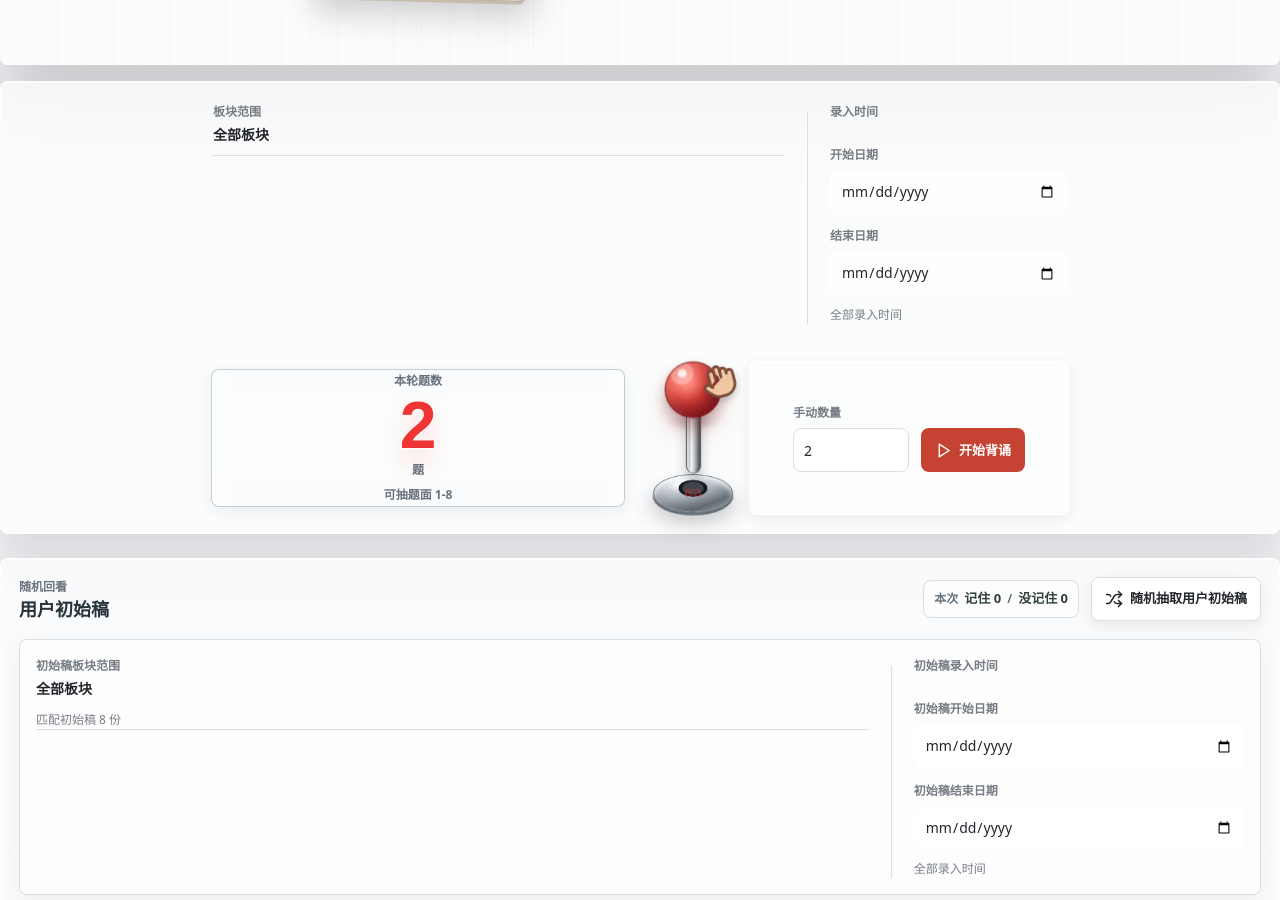
Test case: 不会标注背诵页 › 先显示封面和精简抽题入口，手动开始后才显示题目
(page scrolled)
Expected: the text "广陵对应哪里？" is not shown
Expected: the number field labelled "手动数量" is shown, x1=793 y1=428 x2=909 y2=472
Click the button "开始背诵" at (973, 450), box x1=921 y1=428 x2=1025 y2=472
(page scrolled)
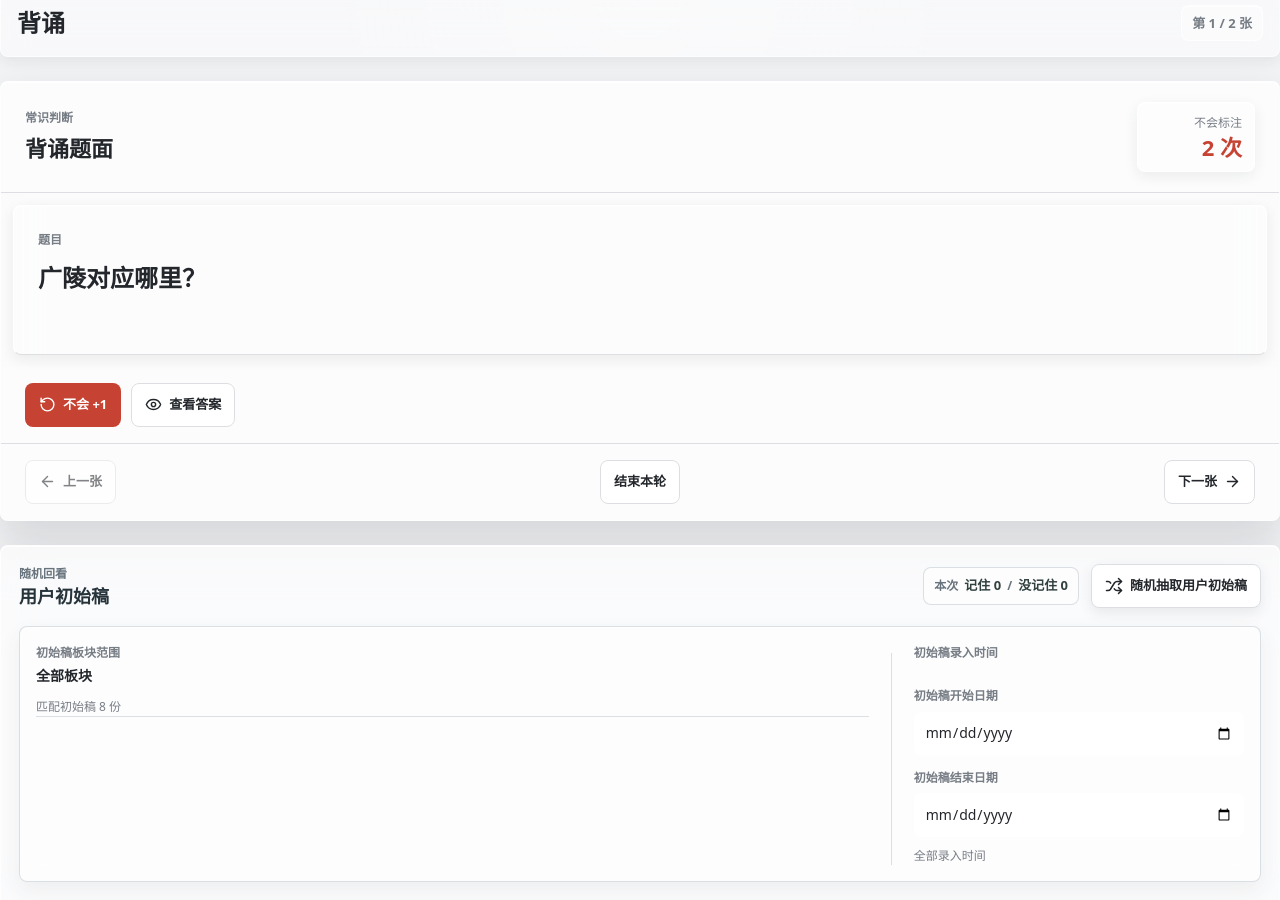
Expected: the text "广陵对应哪里？" is shown, x1=38 y1=261 x2=206 y2=294
